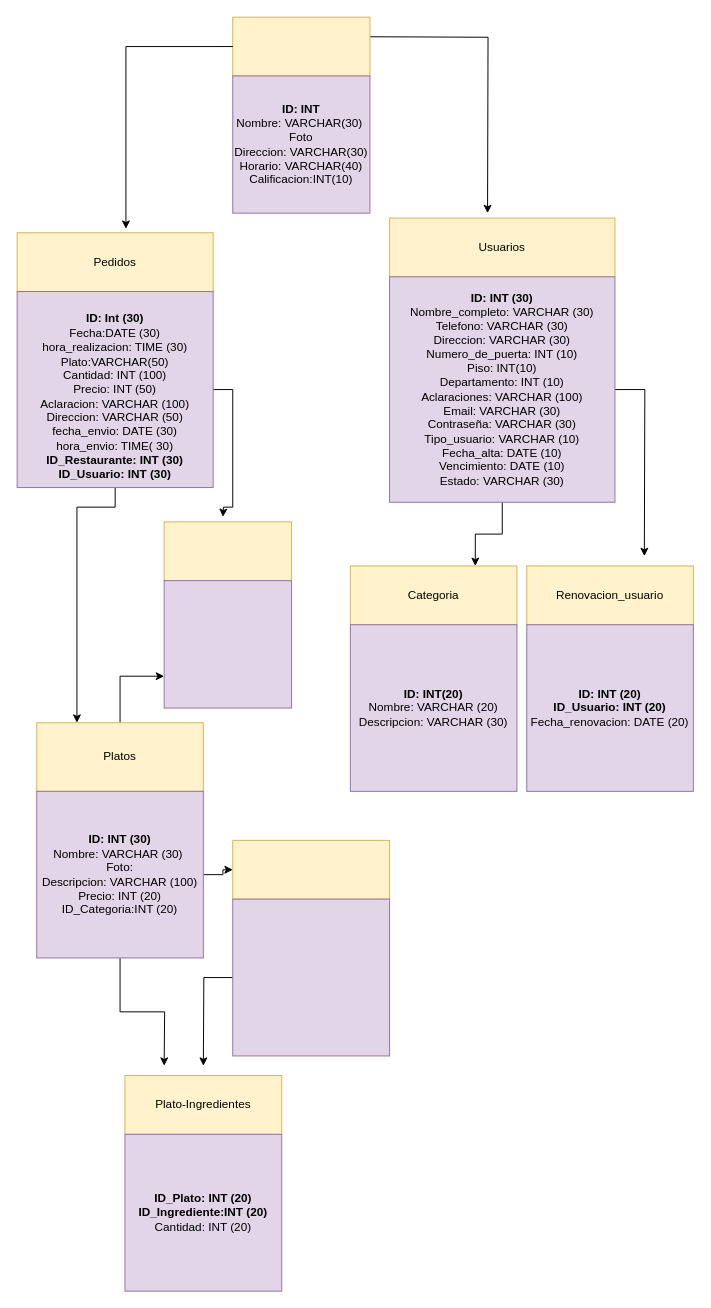
This 711x1308 diagram has some shape labels left out. The centre of each missing label's shape, as x and y in pixels:
"ID: INT (20) Nombre: VARCHAR (30) Descripcion: VARCHAR (100)" belongs at [311,977].
"ID_Pedidos:INT (30) ID_Platos:INT (30) Cantidad: INT (20)" belongs at [227,644].
"Ingredientes" belongs at [311,869].
"Pedidos-Platos" belongs at [227,551].
"Restaurantes" belongs at [301,46].
